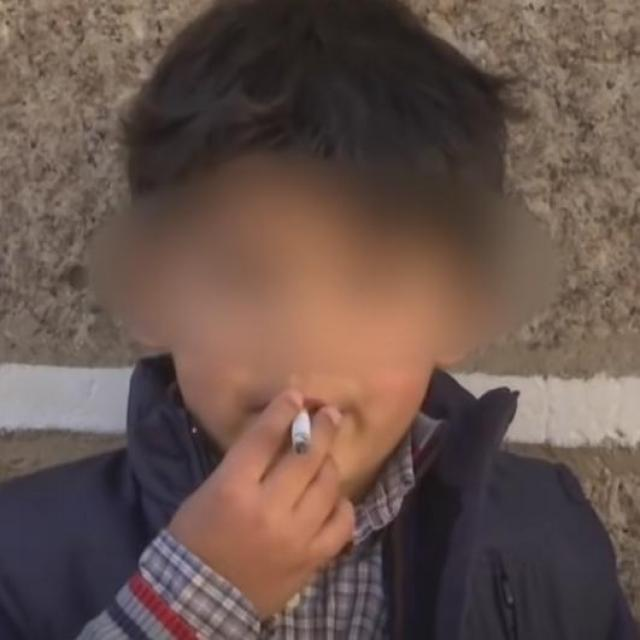cigarette: (270, 388, 345, 466)
